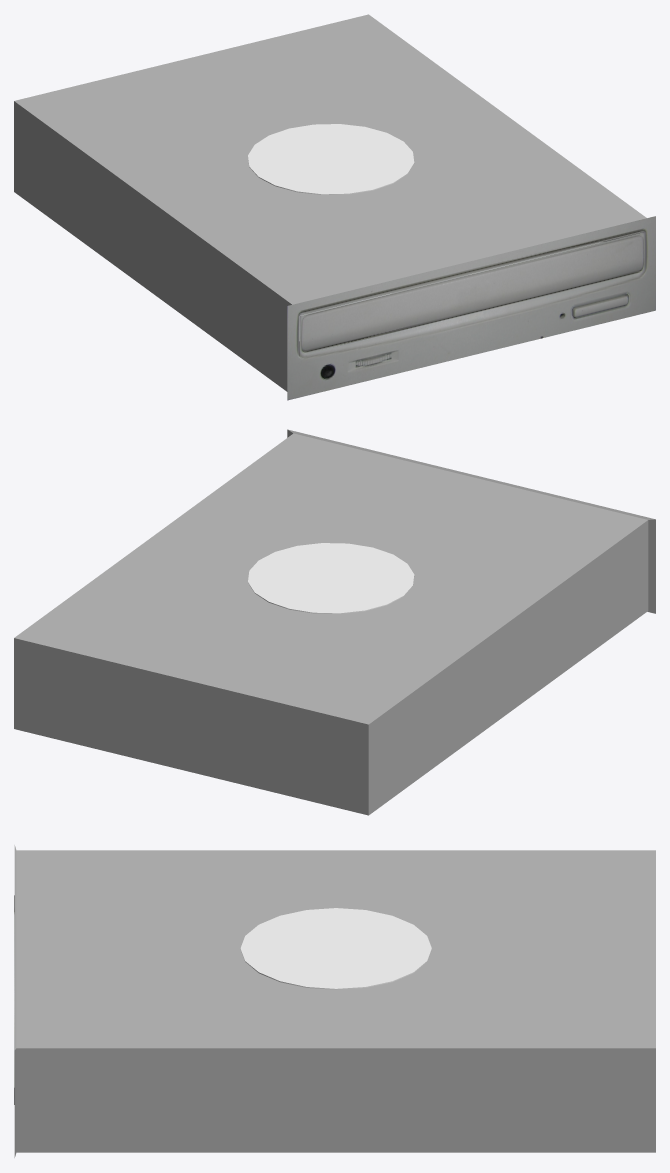
Rendered from cddrive.glb.
3 renders of one model, top to bottom at view 1: azimuth 30°, elevation 25°; view 2: azimuth 150°, elevation 25°; view 3: azimuth 270°, elevation 25°, orthographic. The views are drawn at different scales.
Parts seen in each view (by area): view 1: polySurface1, polySurface2; view 2: polySurface1; view 3: polySurface1.
Part boxes in pixels (left/top/right/bottom): polySurface1: left=14, top=14, right=655, bottom=400; polySurface2: left=299, top=232, right=644, bottom=356; polySurface1: left=14, top=429, right=655, bottom=815; polySurface1: left=14, top=845, right=655, bottom=1157.
Bounding box in the file's own units: 0.056 × 0.0137 × 0.0738.
3 materials, 1 textured.
